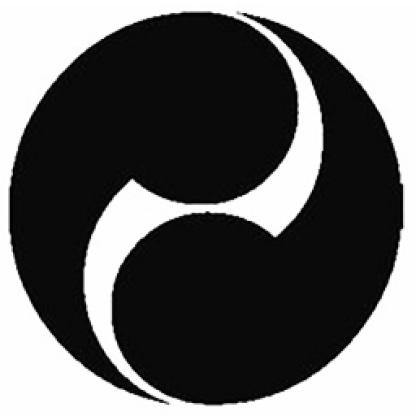kamon: (6, 8, 408, 410)
